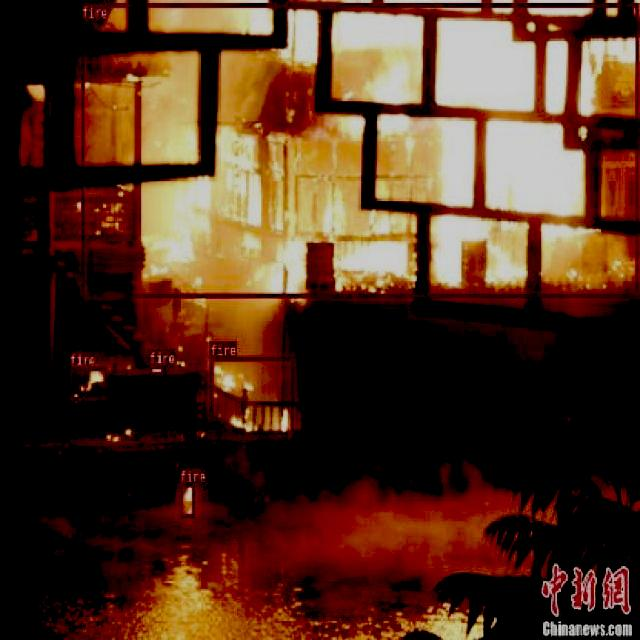fire: (80, 2, 638, 298), (209, 356, 294, 438), (68, 366, 107, 400), (180, 480, 194, 518), (148, 362, 164, 376)
